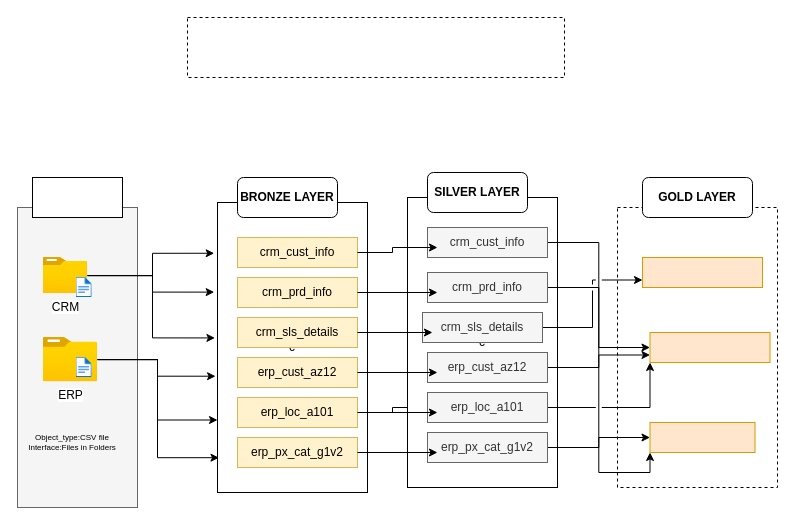
The diagram is 795 pixels wide and 525 high, and some of its shapes have lost their labels. The shapes that lost their labels are listed below. From the top down, each one's centre as x and y in pixels, then its label:
At (x=375, y=47): "Data Flow (Data Lineage)".
At (x=77, y=197): "Sources".
At (x=702, y=272): "fact_sales".
At (x=709, y=347): "dim_customers".
At (x=702, y=437): "dim_products".
